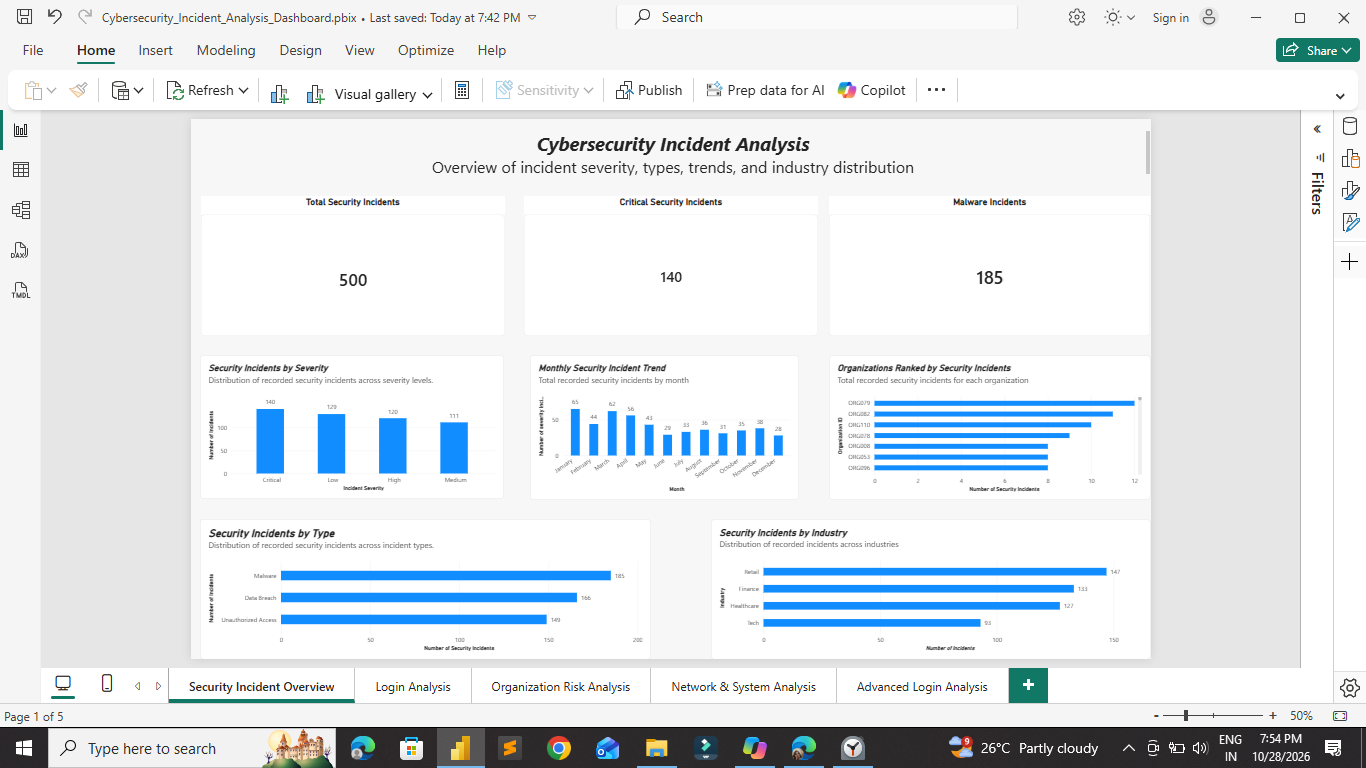

The page's visual inventory and layout, read from the dashboard file:
{"tool":"powerbi","page":{"name":"Security Incident Overview","canvas":[1920,1080],"ordinal":0},"visuals":[{"type":"cardVisual","title":"Total Security Incidents","fields":{"Data":["CountNonNull(security_incidents.incident_id)"]},"box":[19.1,153.2,607.5,280],"z":0},{"type":"clusteredColumnChart","title":"Security Incidents by Severity","fields":{"Category":["security_incidents.severity"],"Y":["CountNonNull(security_incidents.incident_id)"]},"box":[17,472.3,608,288],"z":1000},{"type":"columnChart","title":"Monthly Security Incident Trend","fields":{"Category":["security_incidents.discovered_date.Variation.Date Hierarchy.Month"],"Y":["CountNonNull(security_incidents.incident_type)"]},"box":[678.7,472.3,538,290],"z":2000},{"type":"clusteredBarChart","title":"Security Incidents by Type","fields":{"Category":["security_incidents.incident_type"],"Y":["CountNonNull(security_incidents.incident_id)"]},"box":[17,800,902.1,280.9],"z":3000},{"type":"cardVisual","title":"Critical Security Incidents","fields":{"Data":["CountNonNull(security_incidents.incident_id)"]},"box":[666,153.2,587.5,280],"z":4000},{"type":"cardVisual","title":"Malware Incidents","fields":{"Data":["CountNonNull(security_incidents.incident_type)"]},"box":[1276.6,153.2,642.5,280],"z":5000},{"type":"clusteredBarChart","title":"Security Incidents by Industry","fields":{"Category":["organizations.industry"],"Y":["CountNonNull(security_incidents.incident_id)"]},"box":[1040.4,800,878.7,280.9],"z":5001},{"type":"clusteredBarChart","title":"Organizations Ranked by Security Incidents","fields":{"Category":["organizations.org_id"],"Y":["CountNonNull(security_incidents.incident_id)"]},"box":[1276.6,472.3,643,290],"z":5002},{"type":"textbox","box":[17,23.4,1900,89.4],"z":5003}]}

Visuals, with their boxes on the page's 1920x1080 design canvas (x1, y1, x2, y2). These are canvas units, not pixel positions in the 1366x768 screenshot, which may show the page scaled, cropped or inside an application window:
"Total Security Incidents" cardVisual: 19,153,627,433
"Security Incidents by Severity" clusteredColumnChart: 17,472,625,760
"Monthly Security Incident Trend" columnChart: 679,472,1217,762
"Security Incidents by Type" clusteredBarChart: 17,800,919,1081
"Critical Security Incidents" cardVisual: 666,153,1254,433
"Malware Incidents" cardVisual: 1277,153,1919,433
"Security Incidents by Industry" clusteredBarChart: 1040,800,1919,1081
"Organizations Ranked by Security Incidents" clusteredBarChart: 1277,472,1920,762
textbox: 17,23,1917,113
